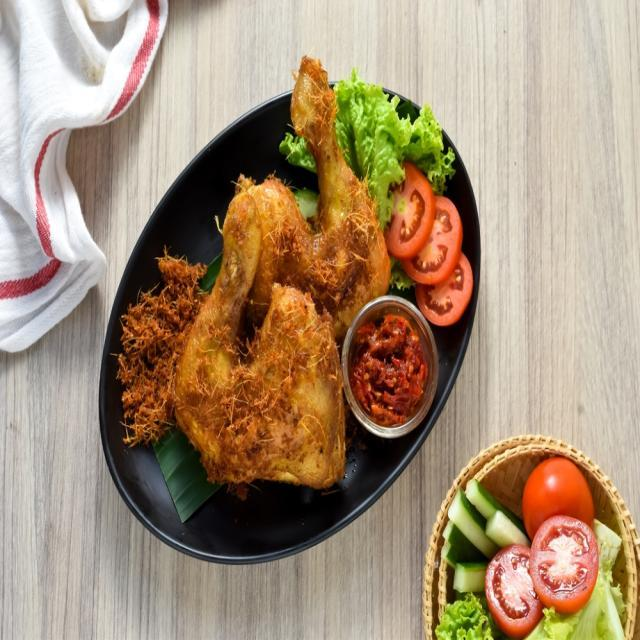ayam_goreng: (182, 88, 407, 491)
